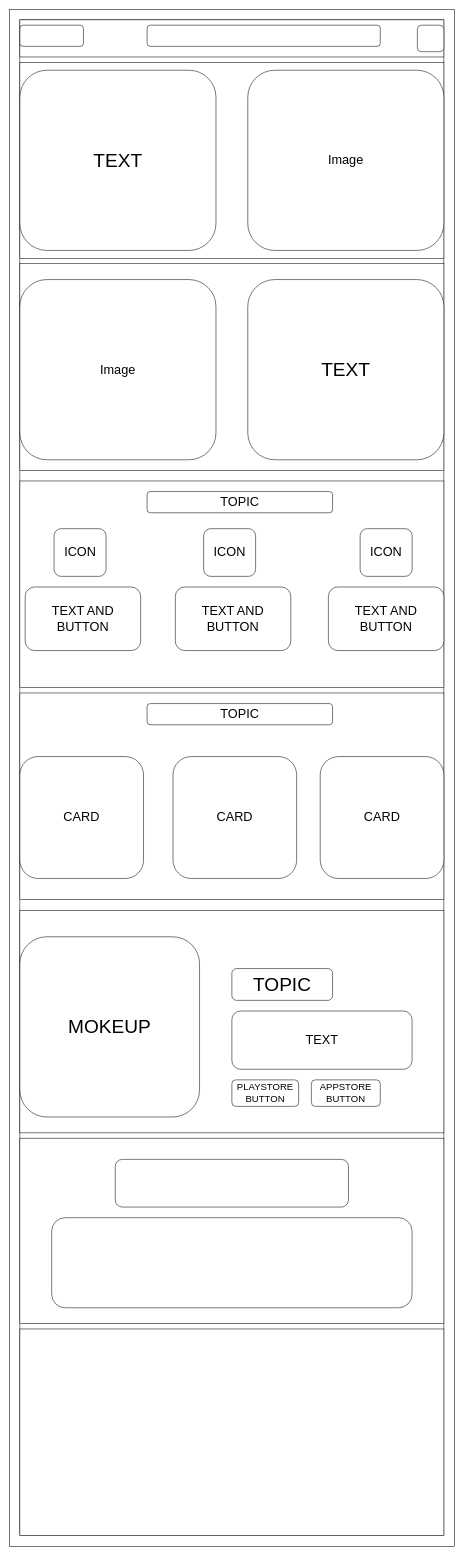
Some shapes in this 464 by 1556 pixel diagram are drawn without their labels. The box of each missing label's shape, as (x1, y1, x2, y2) in pixels:
CONTAC US: (115, 1159, 348, 1207)
D/L: (417, 25, 444, 52)
FOOTER: (19, 1328, 444, 1536)
FORME: (51, 1217, 412, 1308)
LOGO: (19, 25, 83, 46)
NAV ITEM: (147, 25, 380, 46)
